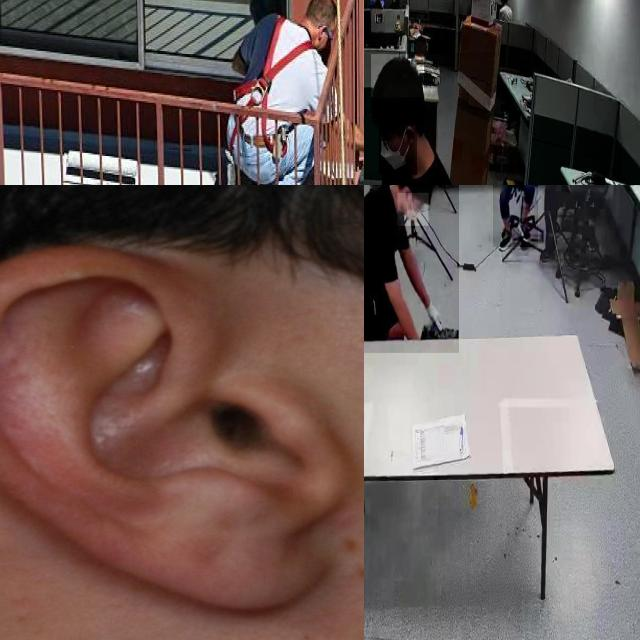Harness: (229, 8, 323, 136)
No_Ear-Protection: (0, 244, 359, 613)
face_mask: (379, 113, 417, 175), (398, 193, 428, 226)
hand_glove: (424, 295, 448, 339)
hand_noglove: (561, 185, 572, 193)
head_nohelmet: (371, 54, 425, 98)
person: (364, 52, 498, 185), (364, 185, 459, 354), (493, 185, 538, 248)
shoes: (516, 212, 534, 246), (497, 224, 515, 253)
